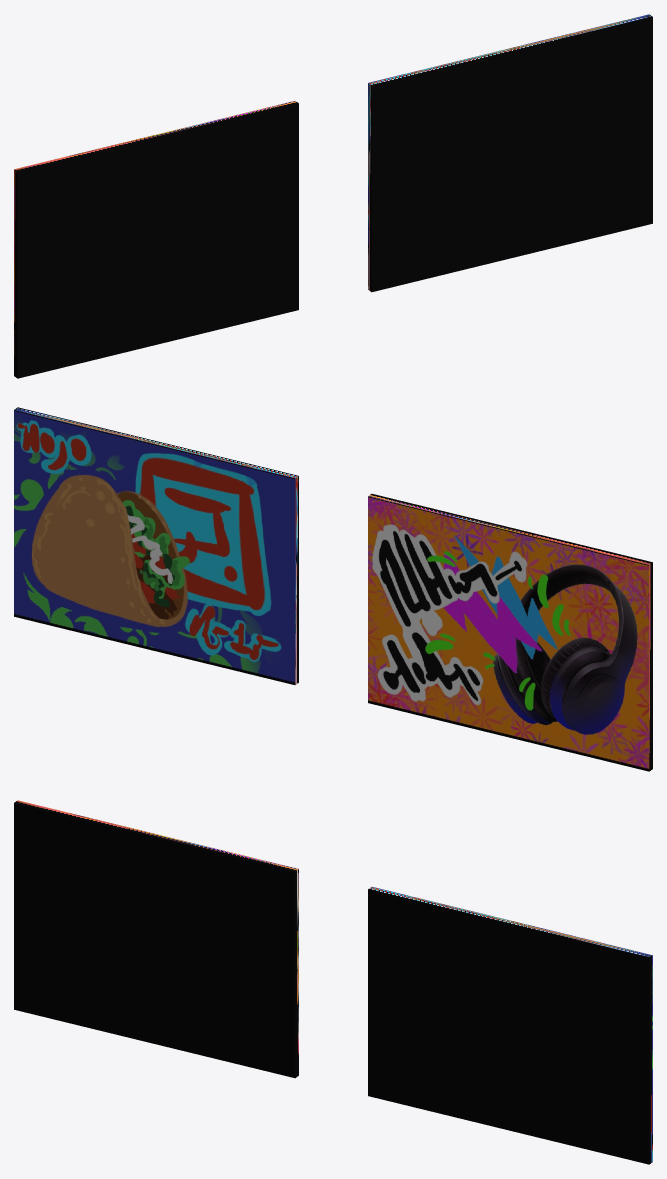
The model's file is MoreBillboards.fbx.
3 renders of one model, top to bottom at view 1: azimuth 30°, elevation 25°; view 2: azimuth 150°, elevation 25°; view 3: azimuth 330°, elevation 25°, orthographic.
Parts seen in each view (by area): view 1: Cube.030, Cube.031; view 2: Cube.030, Cube.031; view 3: Cube.030, Cube.031.
Boxes of the visible parts, x1,y1,x2,y2 form: Cube.030: (368,14,652,292); Cube.031: (14,100,298,378); Cube.030: (14,407,298,685); Cube.031: (368,493,652,771); Cube.030: (368,886,652,1164); Cube.031: (14,800,298,1078).
Size of the model in its own units: 4783 by 1487 by 47.6.
